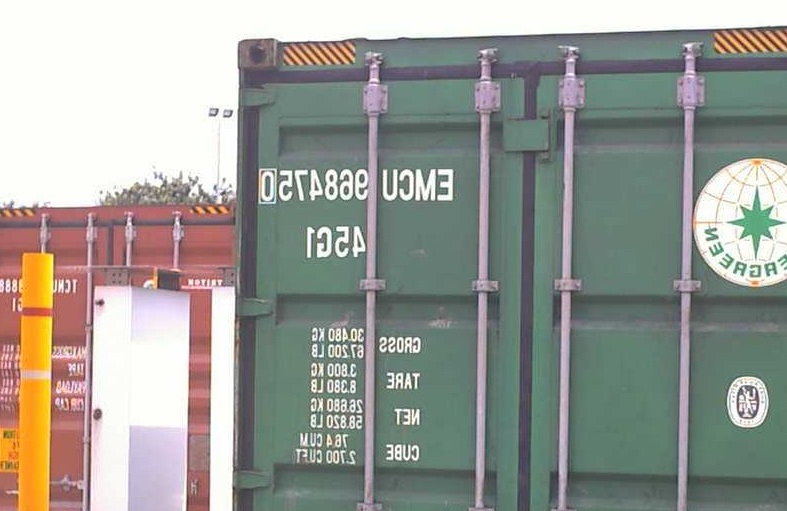container_door: (234, 39, 777, 508)
